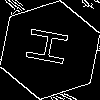H: (25, 25, 79, 70)
